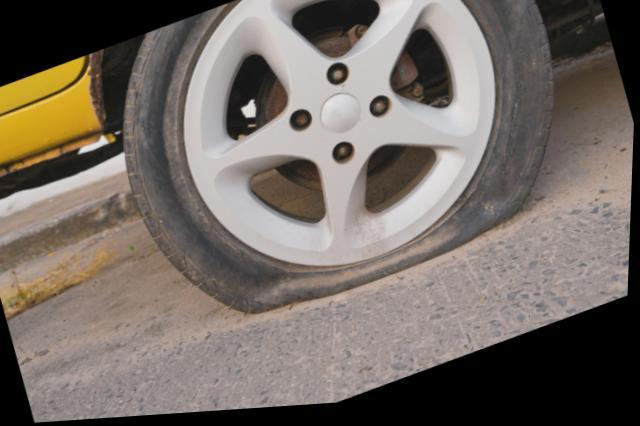tire flat: (122, 0, 554, 315)
